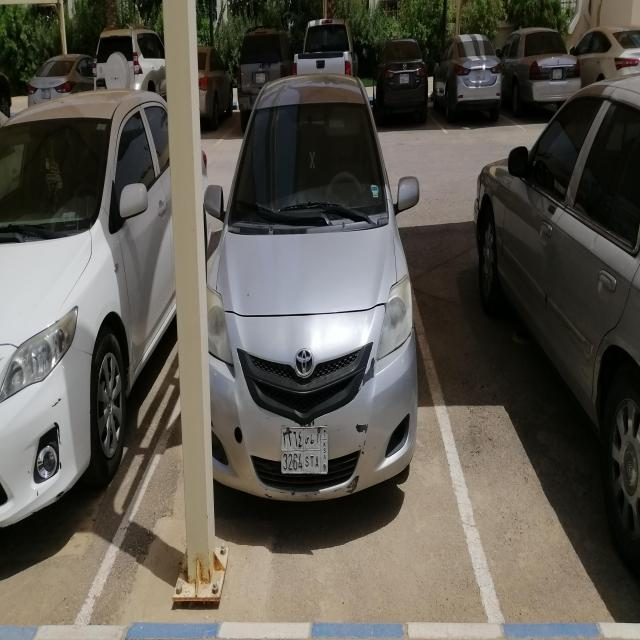license_plate: (280, 426, 328, 474), (475, 70, 485, 80), (41, 89, 51, 99), (399, 74, 408, 84), (553, 69, 562, 79), (256, 73, 265, 83)
